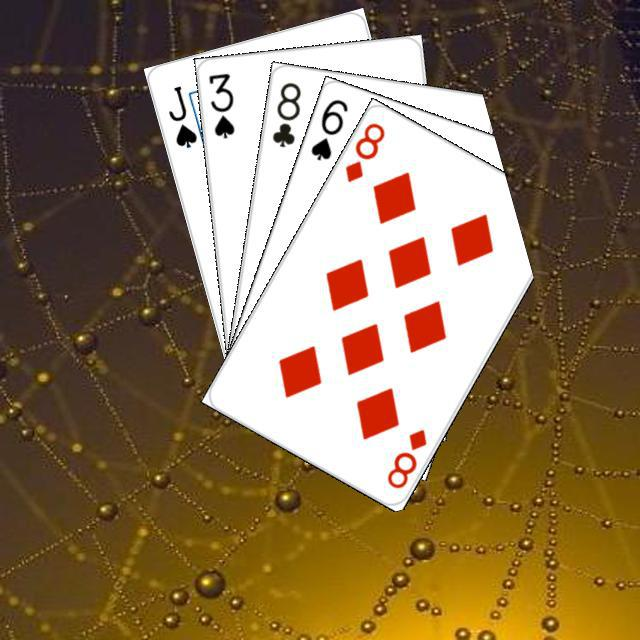3s: (203, 68, 237, 140)
6s: (306, 94, 350, 162)
8c: (267, 77, 303, 149)
8d: (381, 424, 429, 491), (340, 117, 387, 184)
Js: (163, 80, 199, 150)
